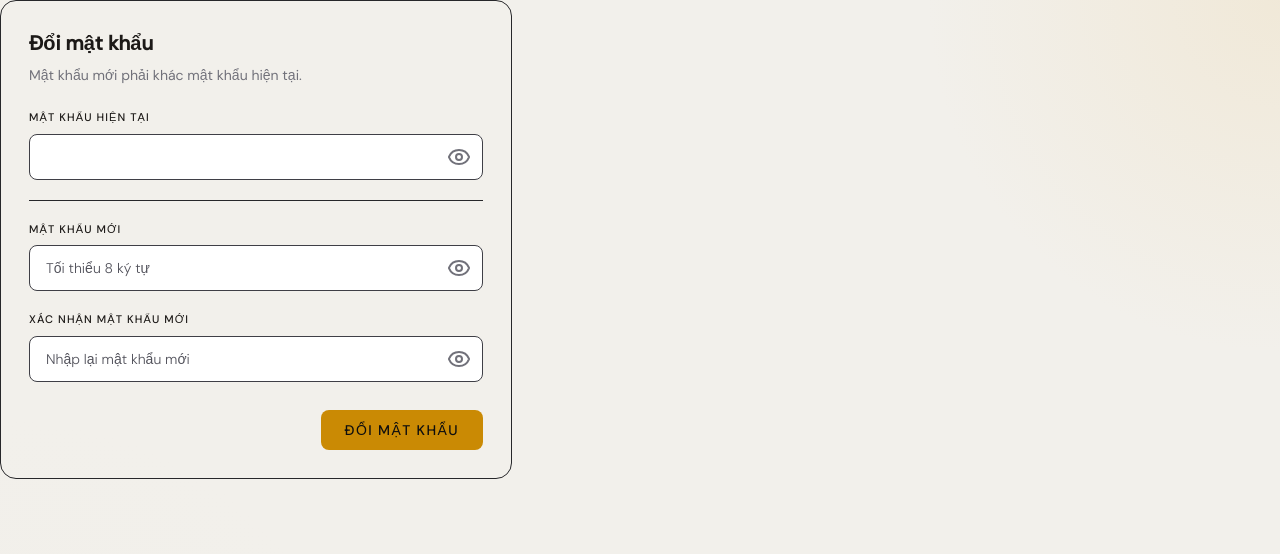
Test: ChangePasswordForm › should show error when new password does not contain uppercase lowercase and number
In the 1st password field: (256, 156) [29,134,483,180], type "oldPassword1"
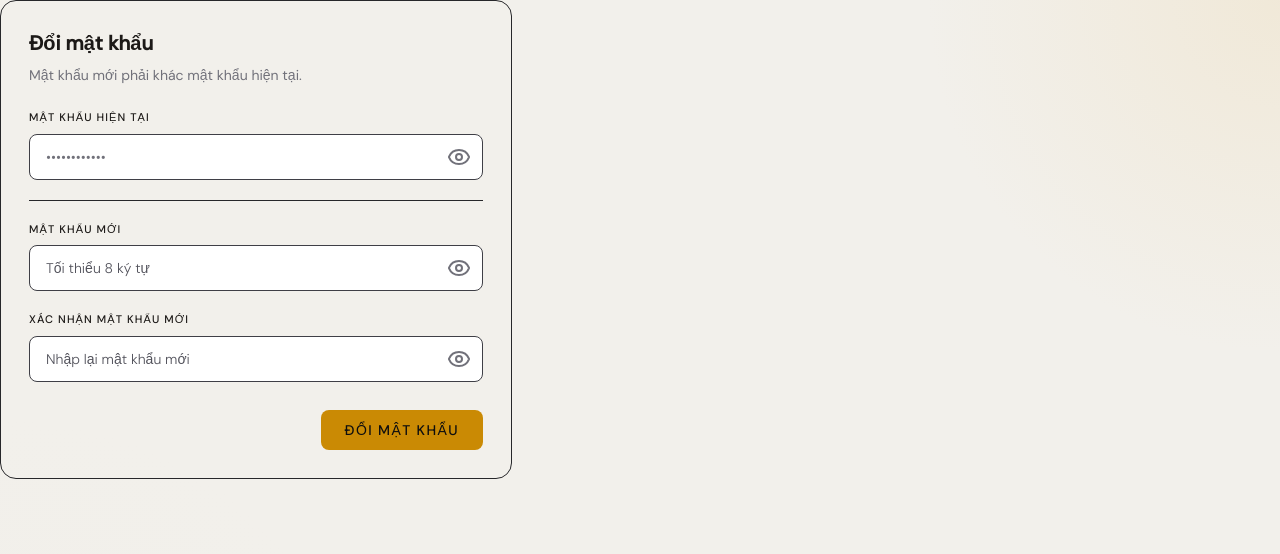
In the password field with placeholder "Tối thiểu 8 ký tự": (256, 268) [29,245,483,291], type "password"
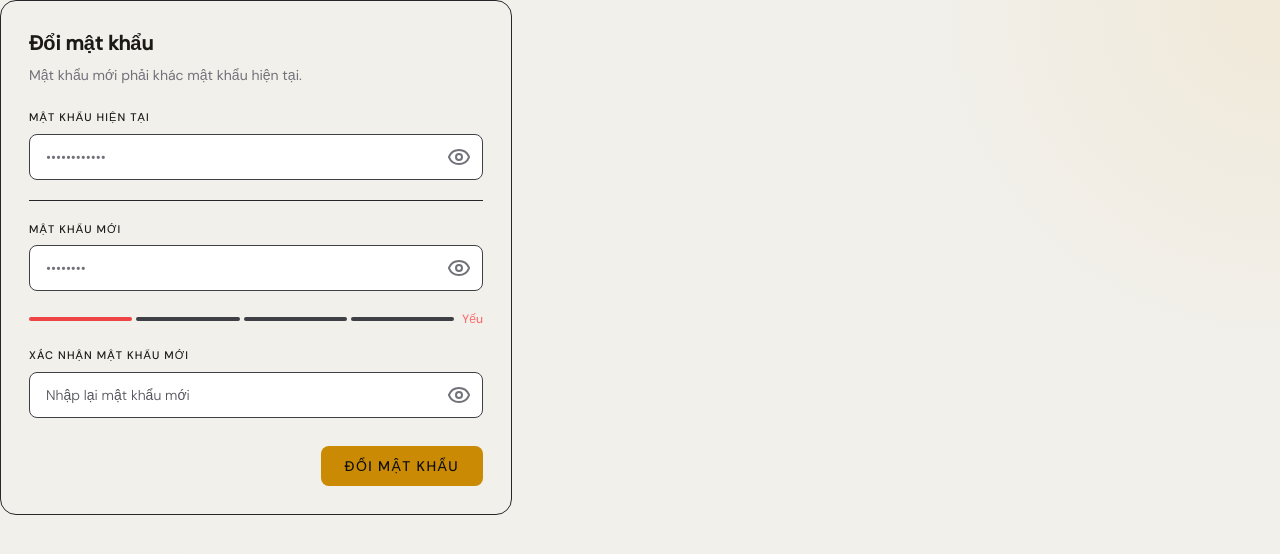
In the password field with placeholder "Nhập lại mật khẩu mới": (256, 394) [29,372,483,418], type "password"
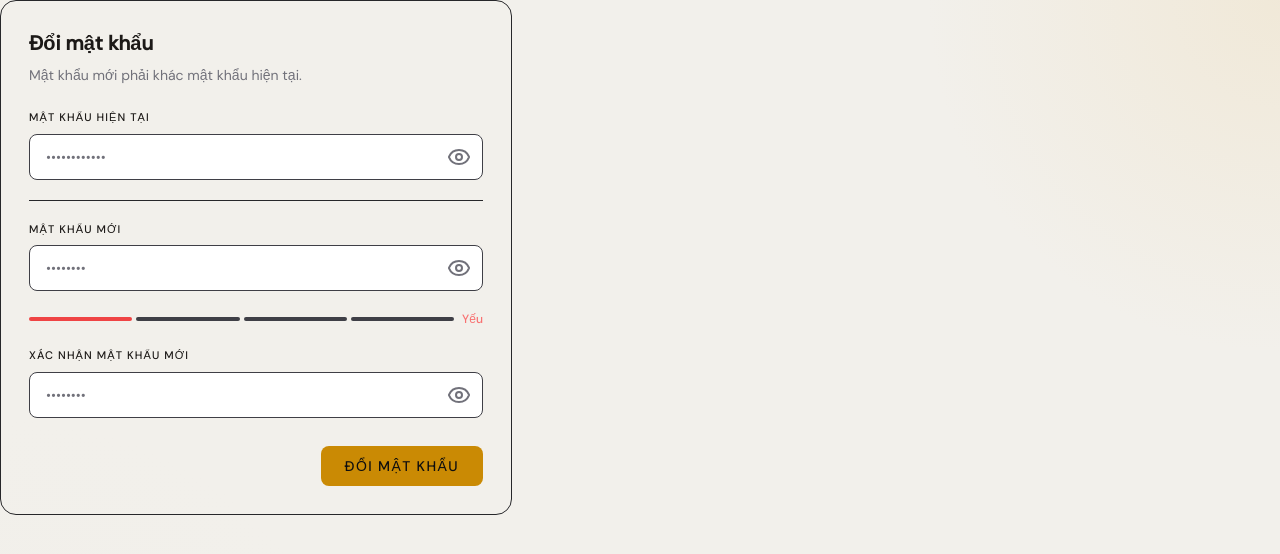
Click the button "Đổi mật khẩu": (402, 466) [321,446,483,486]
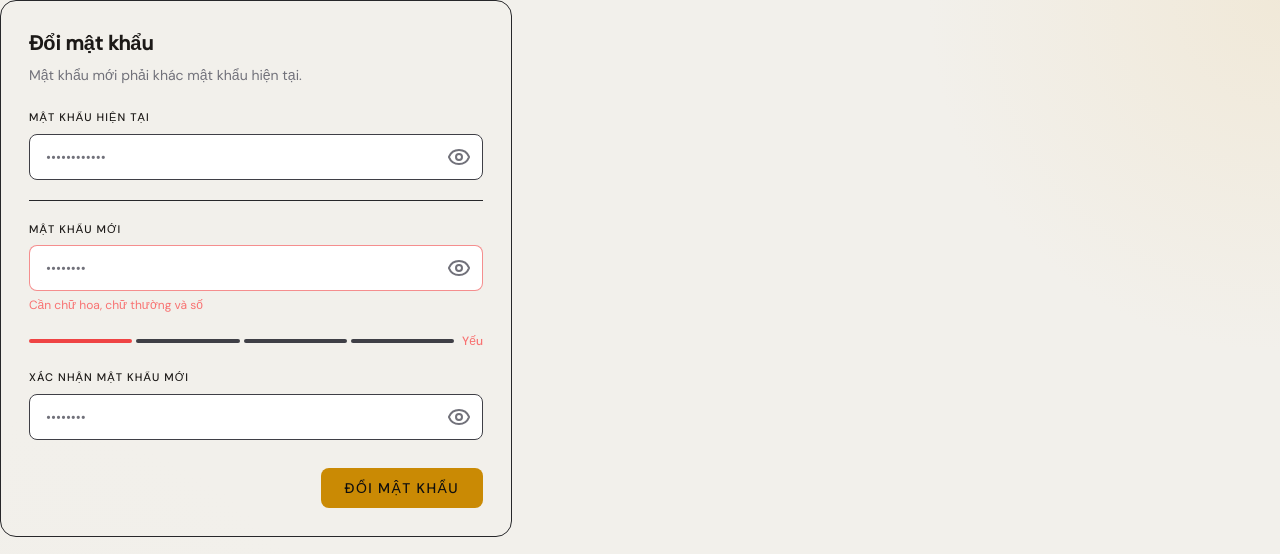
Result: the text "Cần chữ hoa, chữ thường và số" is shown at [29,297,203,313]
